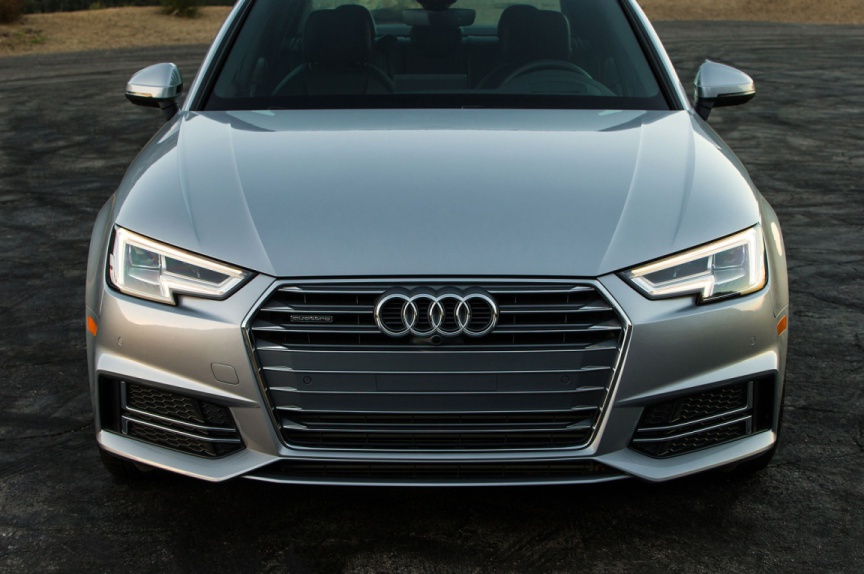audi: (366, 286, 512, 343)
